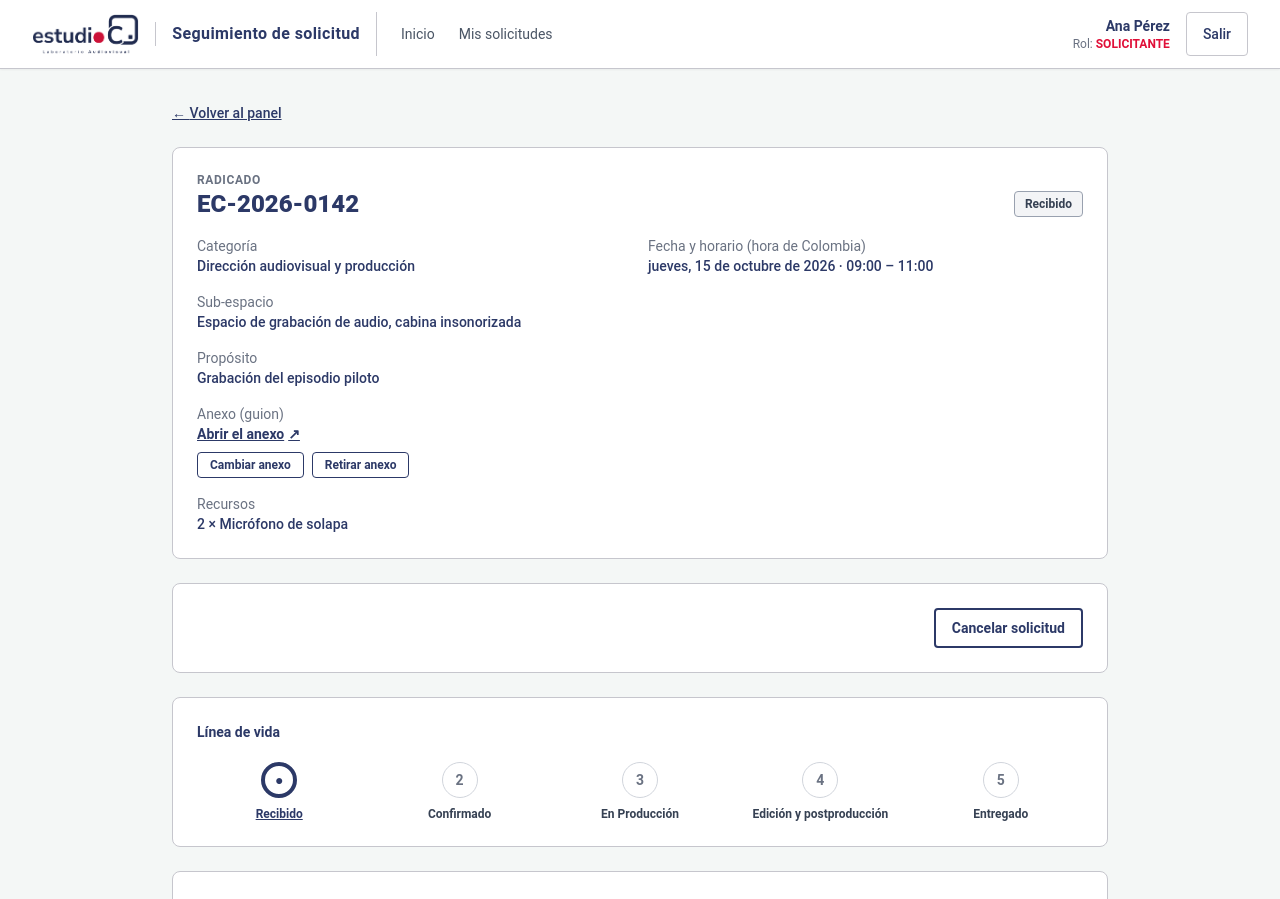
Test: DetalleSolicitud · edición del anexo por el dueño (Fase 9 · K3) › agregar, cambiar y retirar › retirar: acción propia, no irreversible, con null EXPLÍCITO; luego ofrece agregar
The width and height of the screenshot is (1280, 899).
Click the button "Retirar anexo". click: (361, 465)
box: [312,452,409,478]
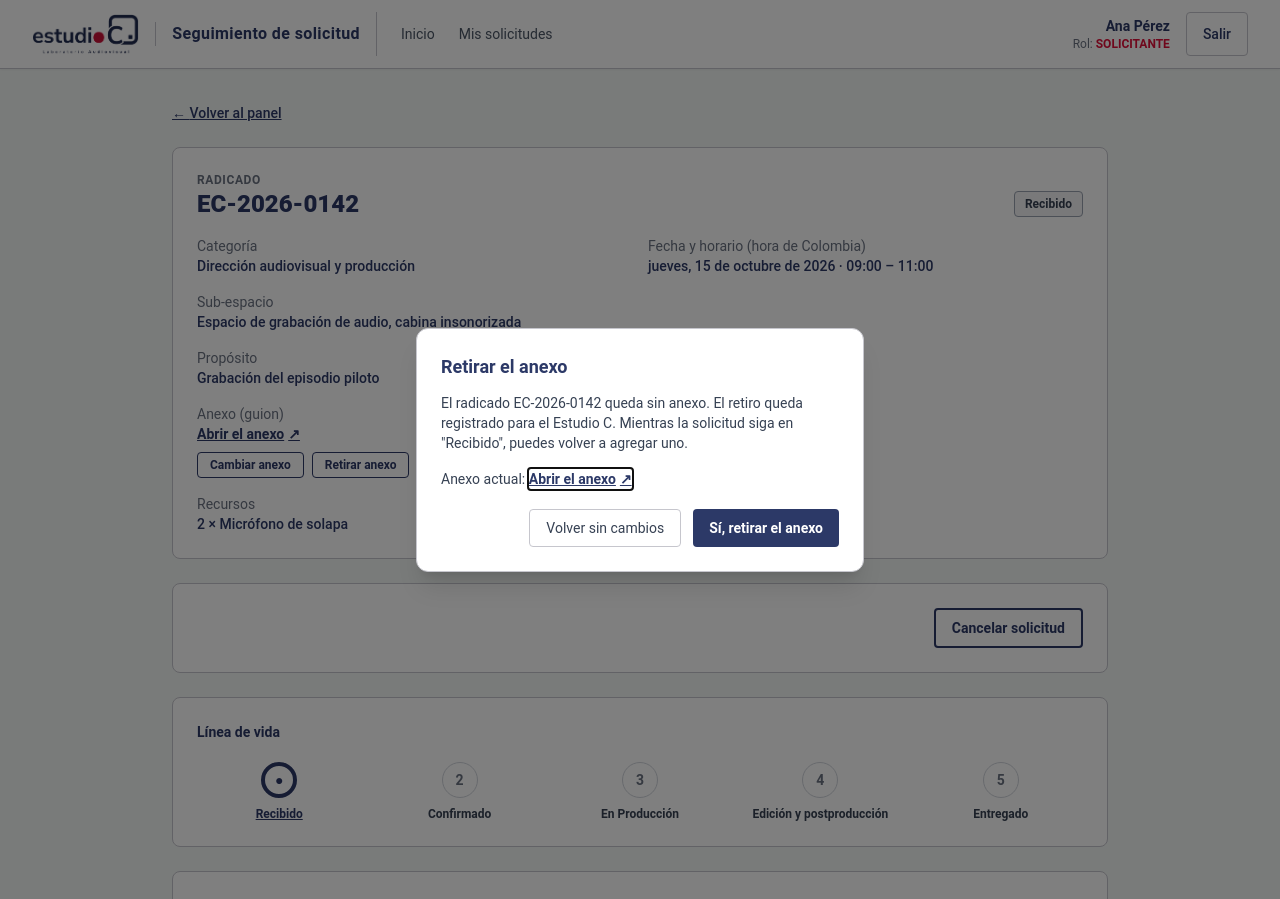
Click the button "Sí, retirar el anexo". click: (766, 528)
box: [693,509,839,547]
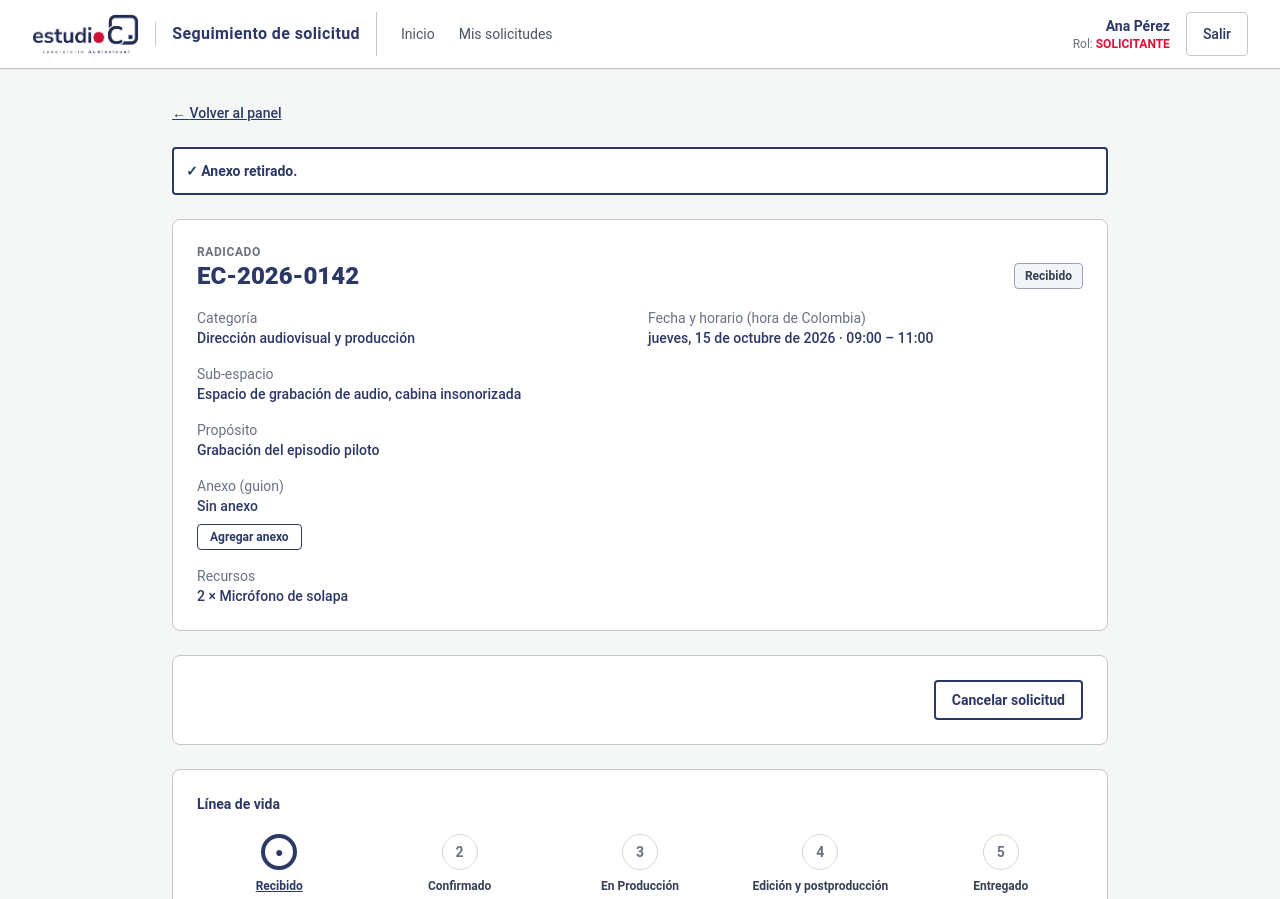
Expected: the text "Sin anexo" is shown, [197,498,258,514]
Expected: the element showing "✓ Anexo retirado." is shown, [172,147,1108,195]
